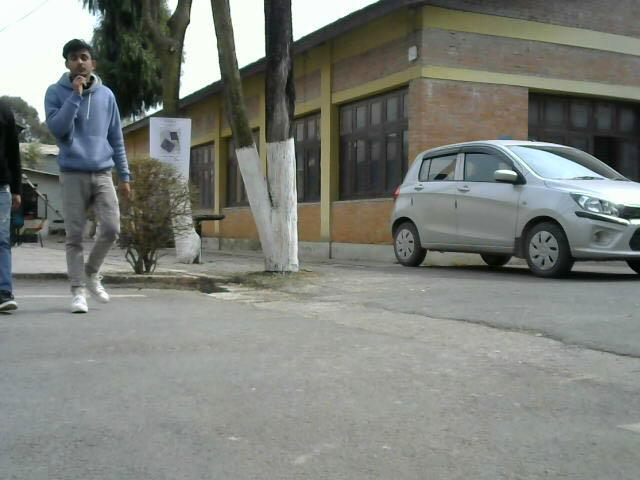Car: (392, 143, 636, 286)
Road: (13, 297, 640, 480), (45, 37, 129, 311)
Tree: (208, 0, 355, 271)
